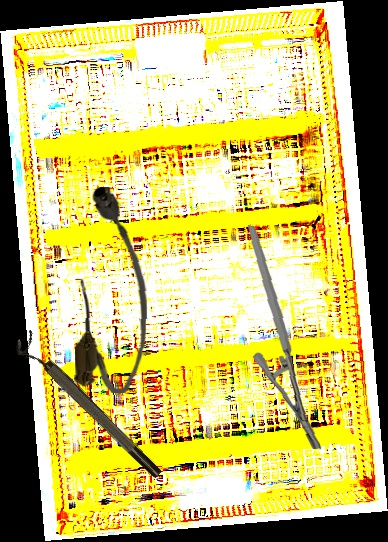Cannula: (73, 186, 152, 394)
Fixation Ring: (11, 329, 165, 487)
Needle Holder: (236, 225, 334, 450)
